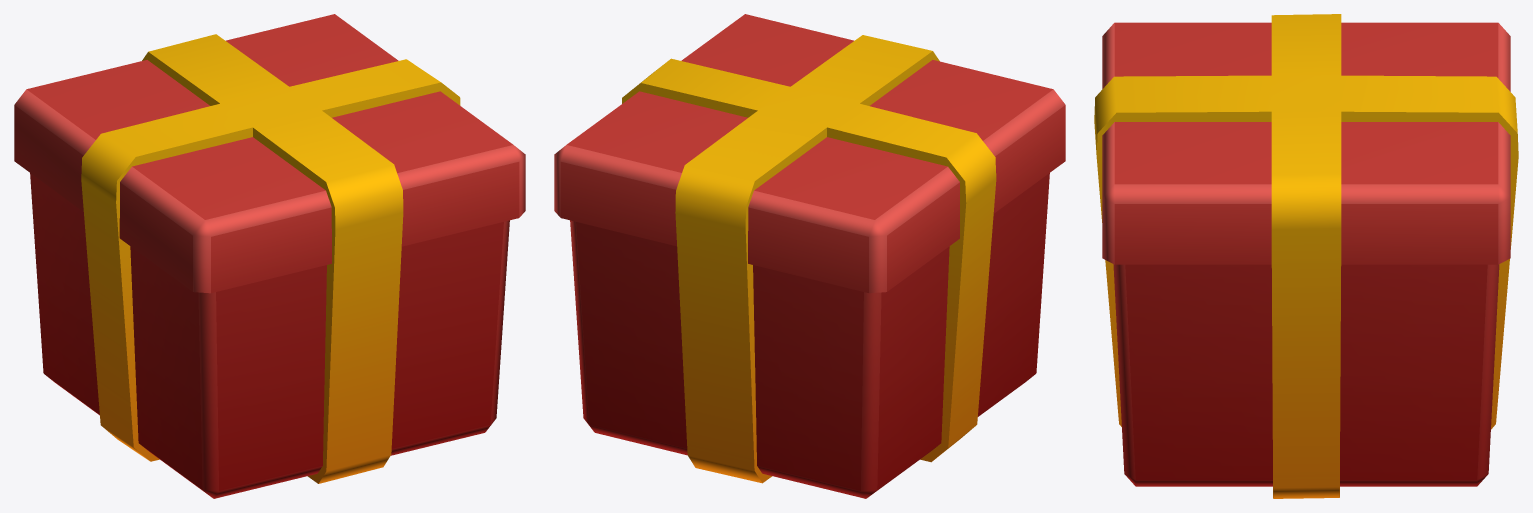
Rendered from giftbox_008.fbx.
3 renders of one model, left to right at view 1: azimuth 30°, elevation 25°; view 2: azimuth 150°, elevation 25°; view 3: azimuth 270°, elevation 25°, orthographic. The views are drawn at different scales.
Parts seen in each view (by area): view 1: giftbox_008; view 2: giftbox_008; view 3: giftbox_008.
Part boxes in pixels (left/top/right/bottom): giftbox_008: left=14, top=14, right=525, bottom=498; giftbox_008: left=554, top=14, right=1065, bottom=498; giftbox_008: left=1094, top=14, right=1518, bottom=498.
Bounding box in the file's own units: 181 × 179 × 155.
